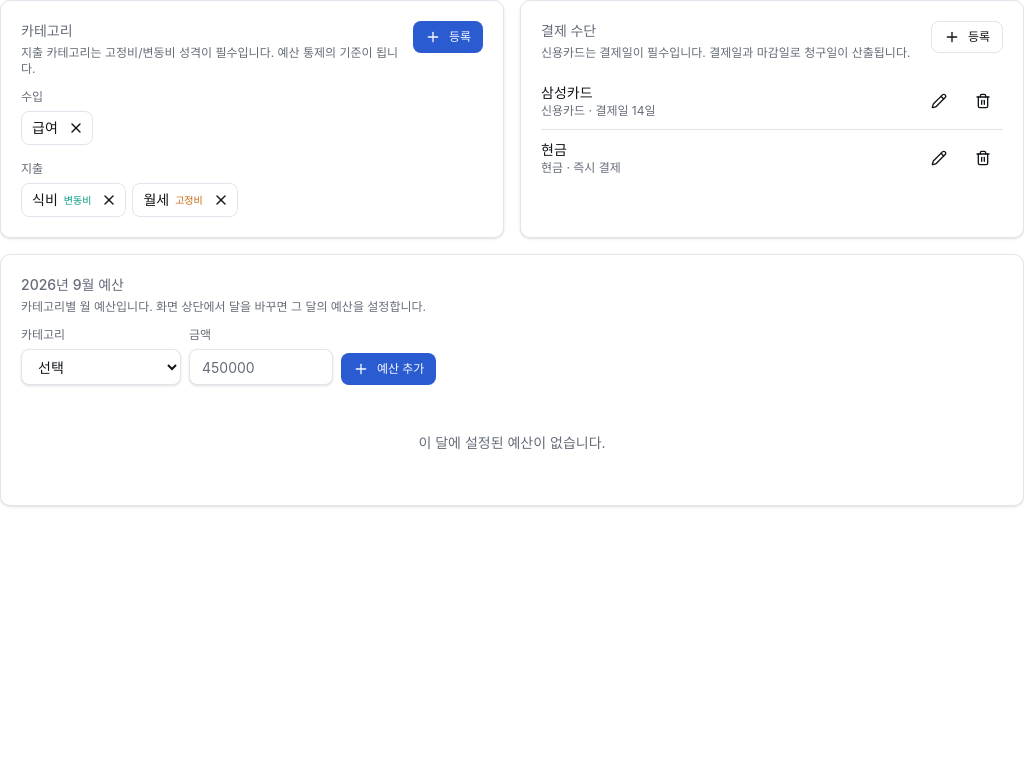
Test case: SettingsPage - 카테고리·결제 수단 관리 › 카테고리 › 항목을 누르면 수정 모달이 그 값으로 열린다
The image size is (1024, 768).
Step 1. Click the button titled "식비 수정" → (62, 200), box [32,186,91,214]
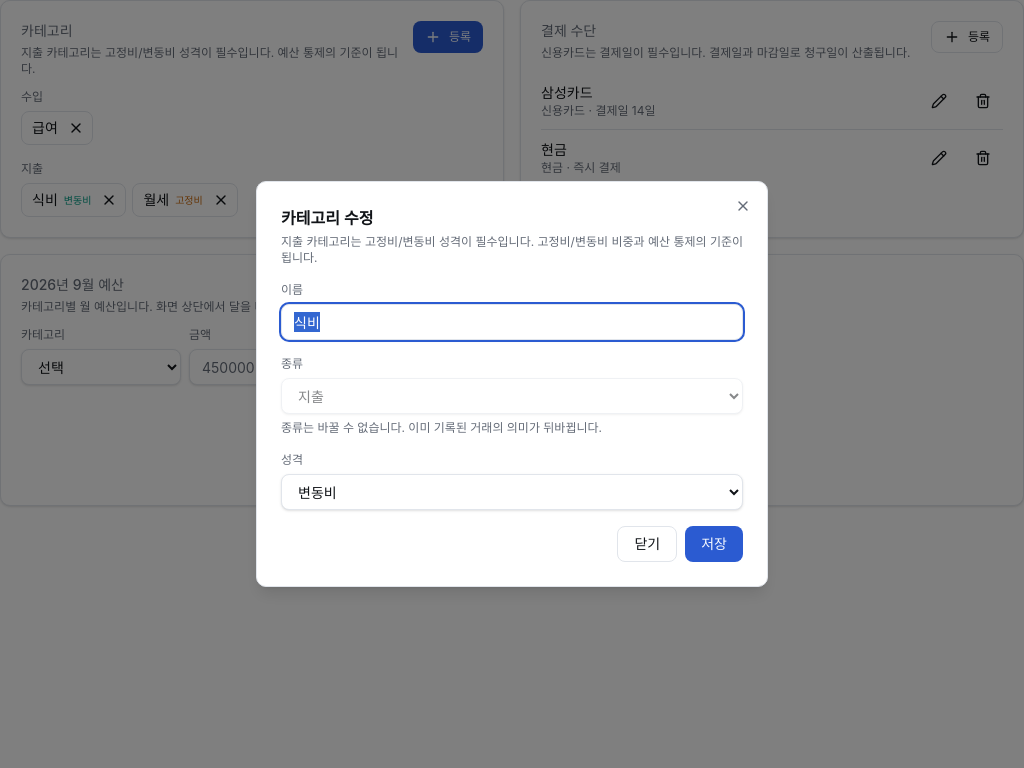
Result: the field labelled "이름" holds "식비" at [281,304,743,340]
Result: the dropdown labelled "성격" shows "변동비" at [281,474,743,510]
